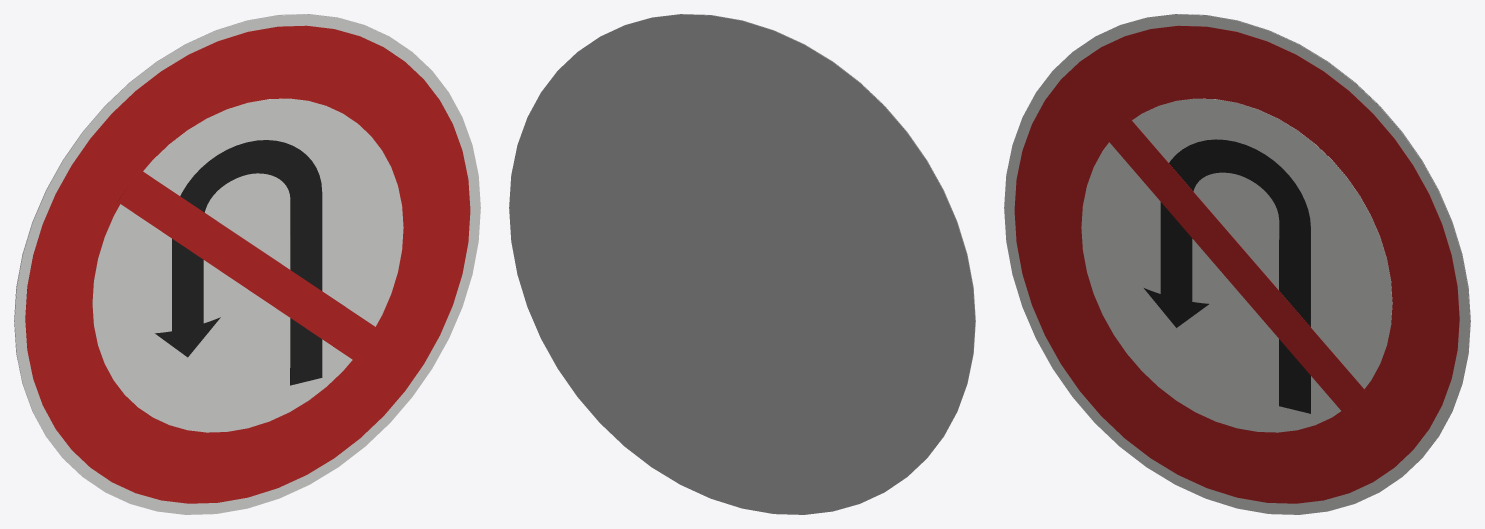
3 views of the same model, side by side, from view 1: azimuth 30°, elevation 25°; view 2: azimuth 150°, elevation 25°; view 3: azimuth 330°, elevation 25° (orthographic).
Parts seen in each view (by area): view 1: B2c_p01, B2c_p02, B2c_p00, B2c_p03, B2c_p04, B2c_dos; view 2: B2c_dos, B2c_p00; view 3: B2c_p01, B2c_p02, B2c_p00, B2c_p03, B2c_p04, B2c_dos.
Boxes of the visible parts, x1=… form: B2c_p01: x1=25, y1=25, x2=470, y2=503; B2c_p02: x1=92, y1=98, x2=403, y2=432; B2c_p00: x1=14, y1=14, x2=480, y2=514; B2c_p03: x1=155, y1=140, x2=322, y2=385; B2c_p04: x1=117, y1=169, x2=378, y2=361; B2c_dos: x1=14, y1=14, x2=385, y2=473; B2c_dos: x1=509, y1=14, x2=975, y2=514; B2c_p00: x1=604, y1=14, x2=975, y2=473; B2c_p01: x1=1014, y1=25, x2=1459, y2=503; B2c_p02: x1=1081, y1=98, x2=1392, y2=432; B2c_p00: x1=1004, y1=14, x2=1470, y2=514; B2c_p03: x1=1144, y1=139, x2=1310, y2=413; B2c_p04: x1=1106, y1=117, x2=1367, y2=414; B2c_dos: x1=1099, y1=14, x2=1470, y2=473.
Size of the model in its own units: 0.85 by 0.8498 by 0.0035.
